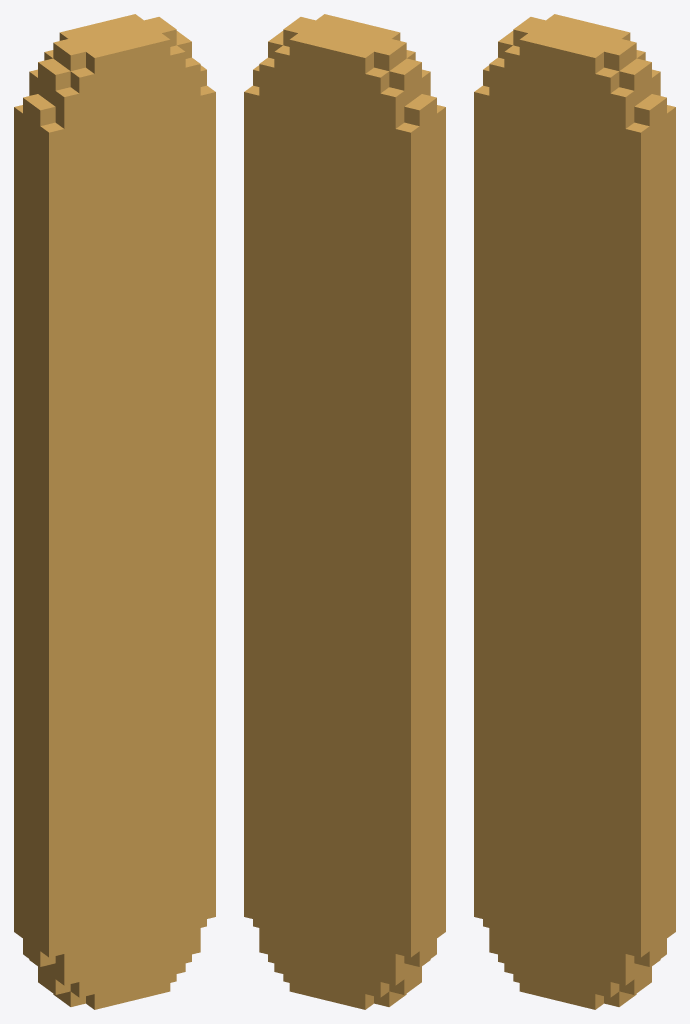
The model's file is stick_2_0.8.obj.
3 views of the same model, side by side, from view 1: azimuth 30°, elevation 25°; view 2: azimuth 150°, elevation 25°; view 3: azimuth 330°, elevation 25° (orthographic).
Bounding box in the file's own units: 1.1 × 6 × 0.4.
Materials: 1 (1 with a texture image).
